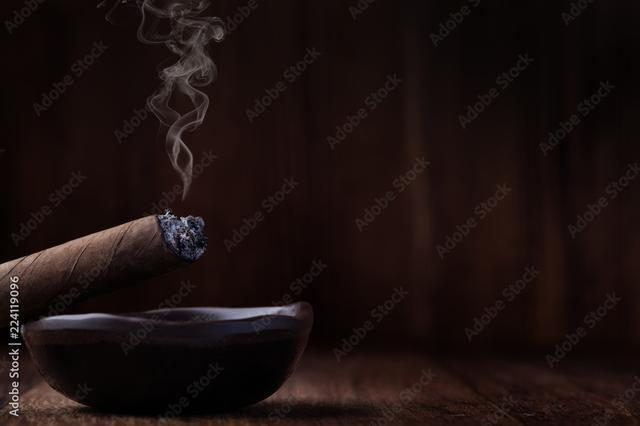Cigar: (1, 208, 208, 342)
